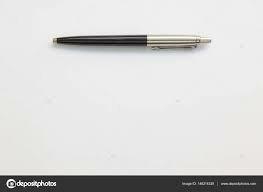pen: (41, 33, 218, 52)
